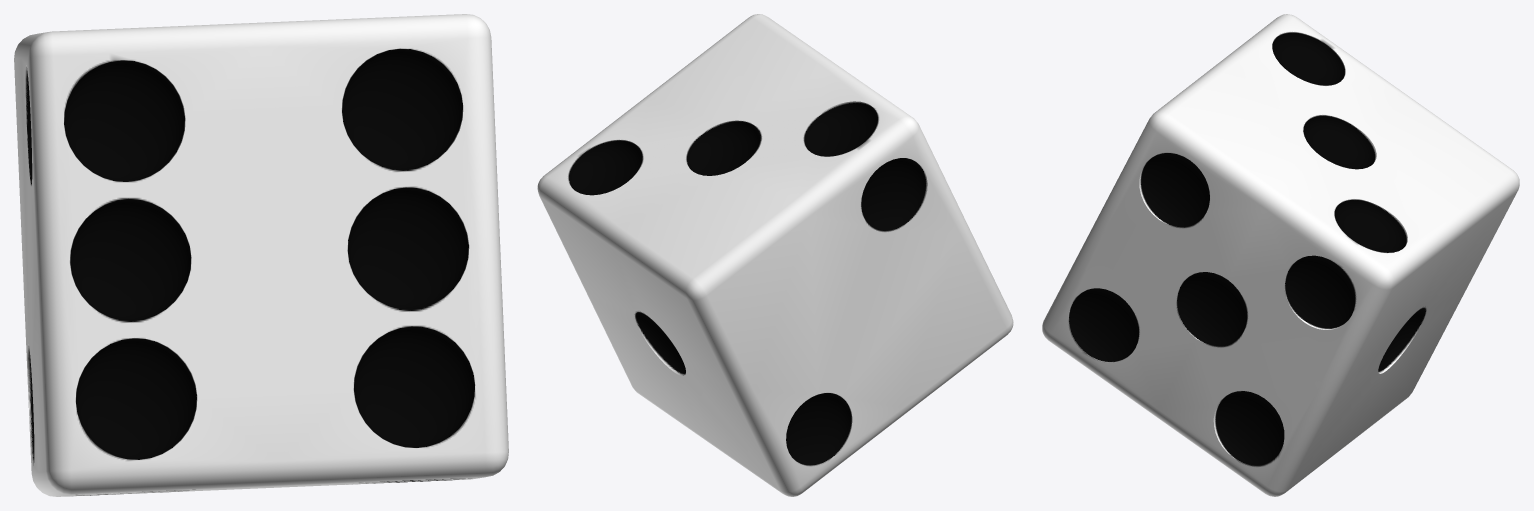
3 views of the same model, side by side, from view 1: azimuth 30°, elevation 25°; view 2: azimuth 150°, elevation 25°; view 3: azimuth 270°, elevation 25° (orthographic). The views are drawn at different scales.
Parts seen in each view (by area): view 1: node_id5; view 2: node_id5; view 3: node_id5.
Part boxes in pixels (x1,y1,x2,y2): node_id5: [14, 14, 508, 496]; node_id5: [537, 14, 1013, 496]; node_id5: [1042, 14, 1519, 496].
Size of the model in its own units: 0.7344 by 0.674 by 0.8074.
Materials: 1 (1 with a texture image).
